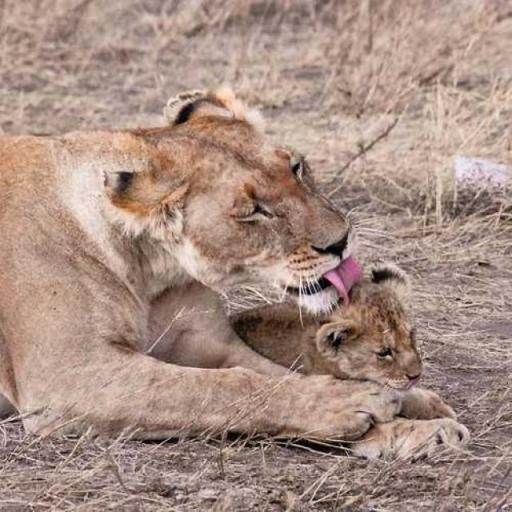Lion: (0, 85, 468, 459)
